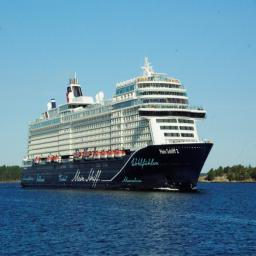cruises: (21, 57, 216, 196)
